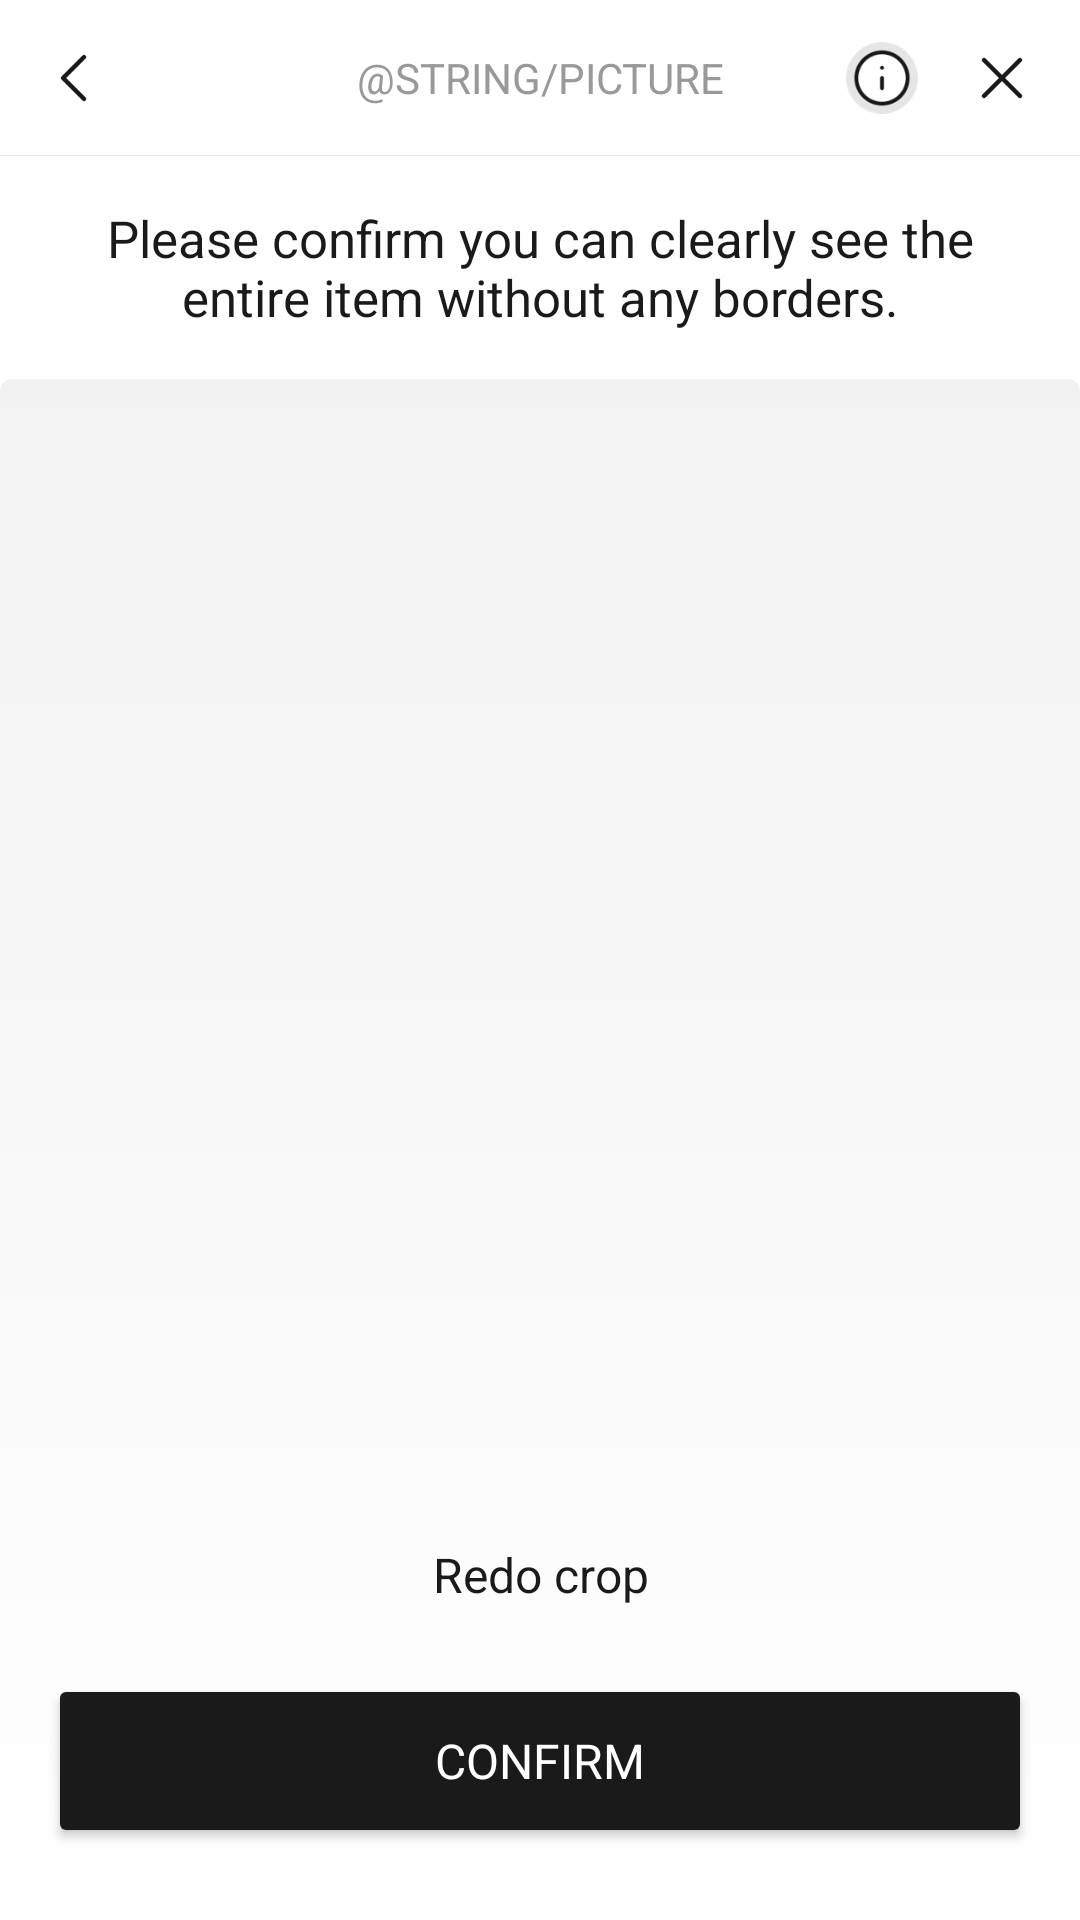

Icons on this 1080w x 1920h Android screen, each with its box as (x1, y1, x2, y2):
back: (60, 54, 87, 102)
close: (981, 57, 1023, 99)
info: (846, 42, 918, 114)
